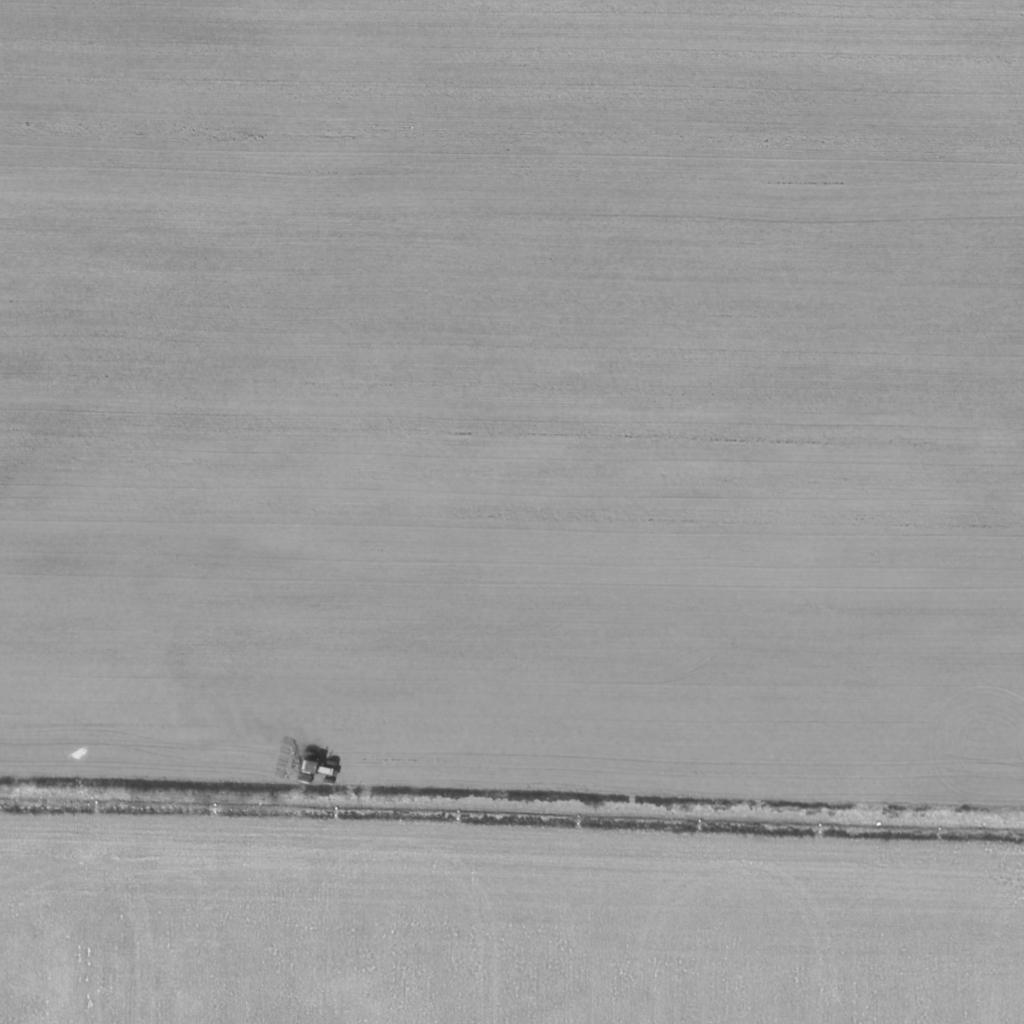vehicle: (296, 751, 342, 793)
